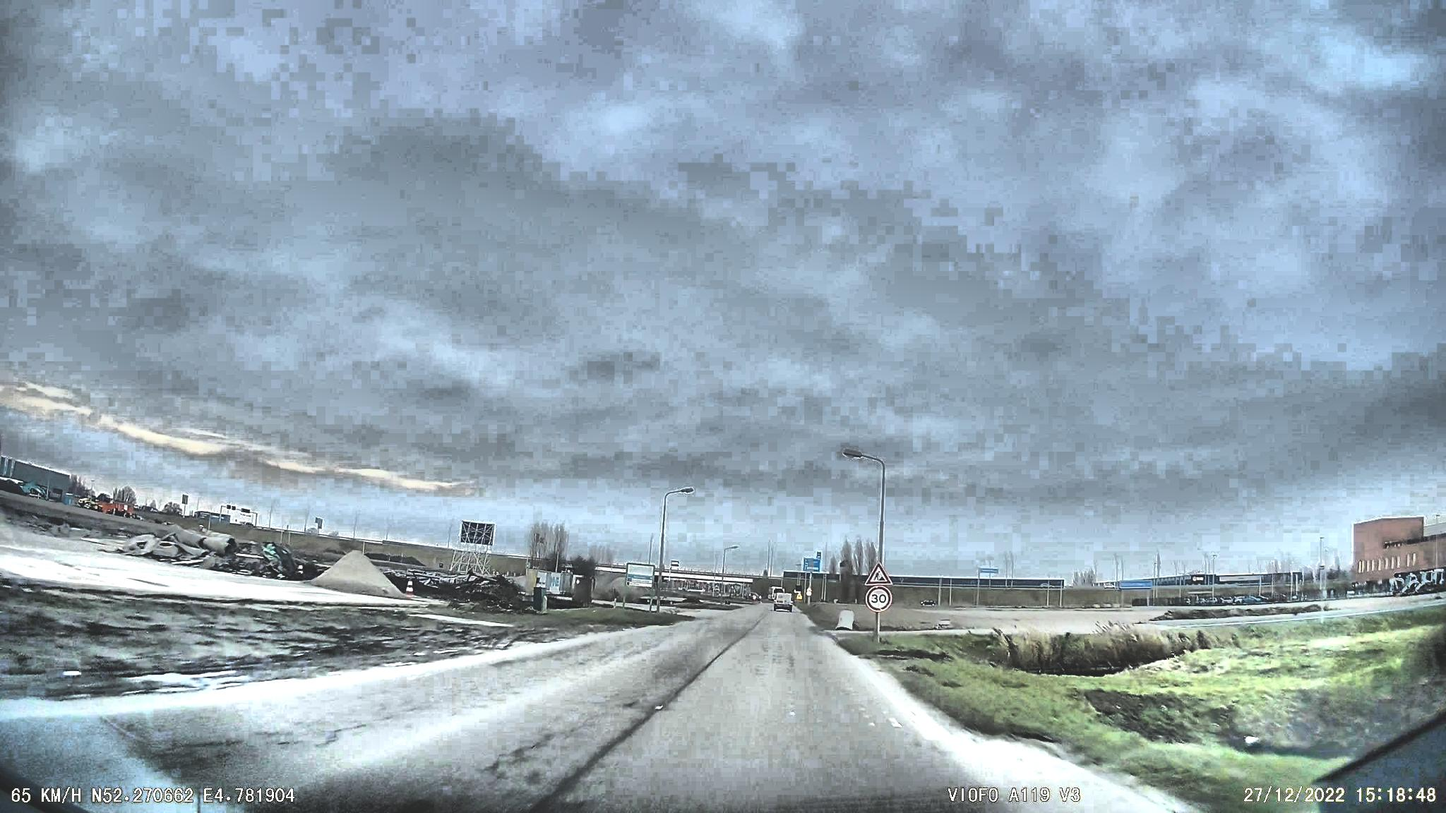Roads: (0, 610, 1207, 813)
